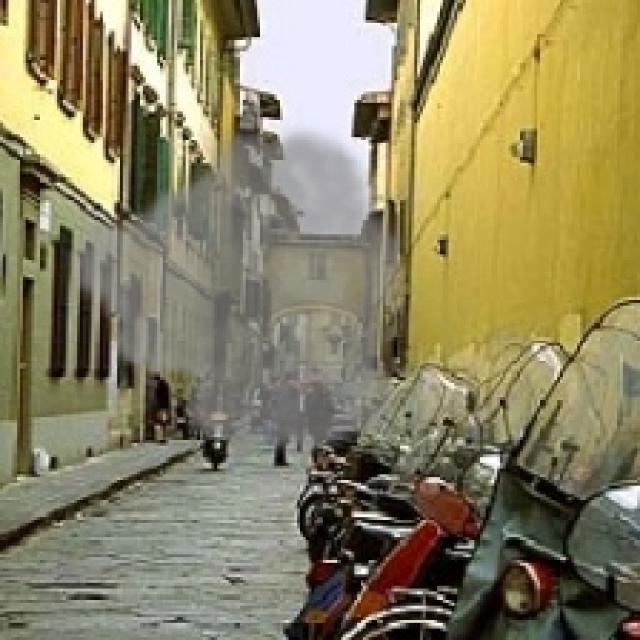smoke: (60, 117, 409, 460)
